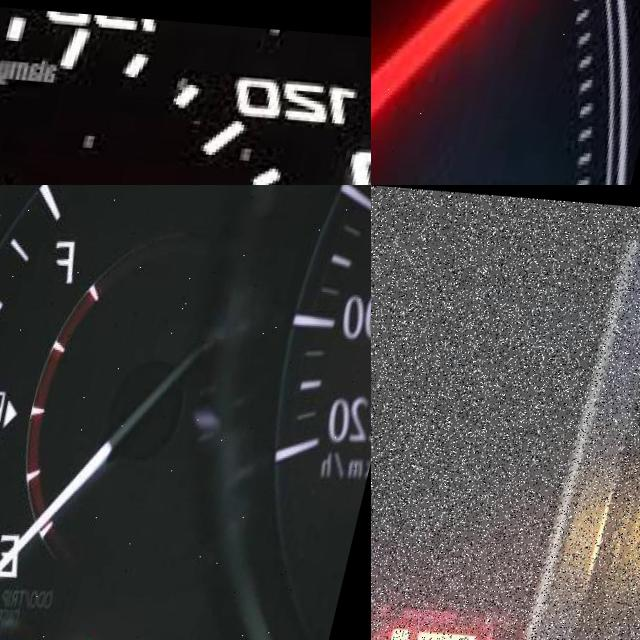Electronic Power Steering: (371, 583, 526, 640)
